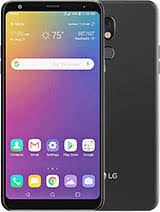lg: (1, 1, 106, 212)
